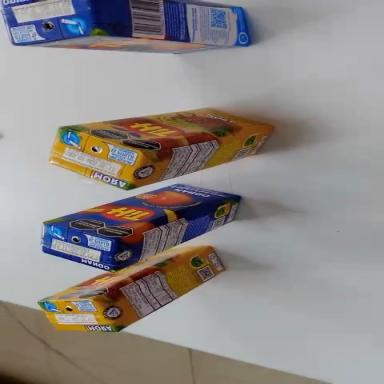HIT-MANGO: (36, 165, 251, 289), (1, 0, 251, 53)
HIT-MORA: (37, 234, 233, 354), (47, 103, 277, 196)
cara_F: (62, 85, 274, 169), (44, 168, 243, 257), (38, 227, 209, 320), (18, 27, 245, 68)
